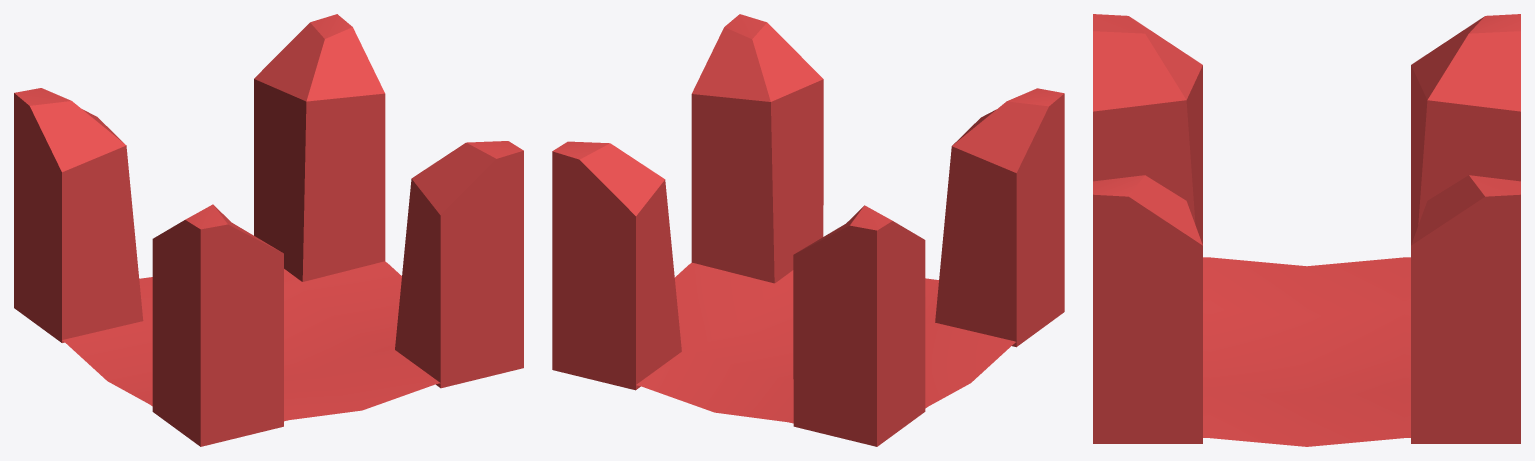
File: Ground_X_Intersection_COL.fbx
3 views of the same model, side by side, from view 1: azimuth 30°, elevation 25°; view 2: azimuth 150°, elevation 25°; view 3: azimuth 270°, elevation 25° (orthographic). The views are drawn at different scales.
Parts seen in each view (by area): view 1: Ground_X_Intersection_COL; view 2: Ground_X_Intersection_COL; view 3: Ground_X_Intersection_COL.
Part boxes in pixels (box(x1,y1,x2,y2)): Ground_X_Intersection_COL: box(14, 14, 523, 446); Ground_X_Intersection_COL: box(552, 14, 1064, 446); Ground_X_Intersection_COL: box(1093, 14, 1520, 446).
Bounding box in the file's own units: 400 × 270 × 400.
